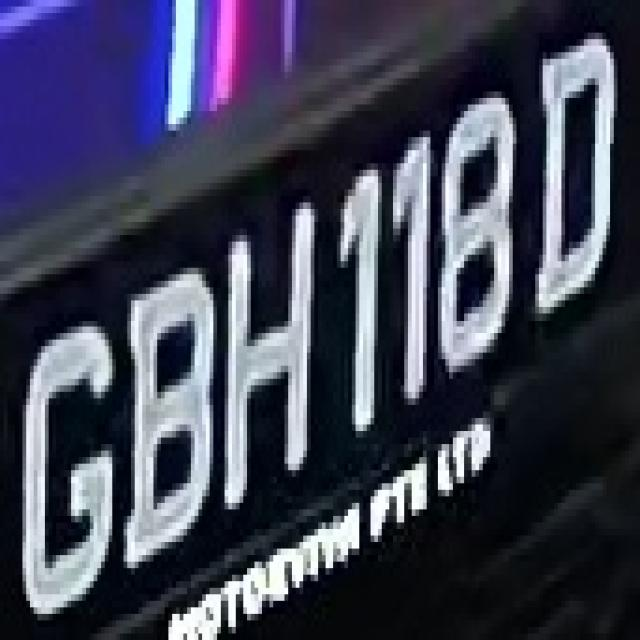1: (340, 144, 386, 457), (390, 118, 430, 438)
8: (430, 66, 528, 386)
B: (120, 248, 221, 562)
D: (528, 32, 621, 314)
G: (11, 294, 120, 601)
H: (217, 189, 326, 542)
